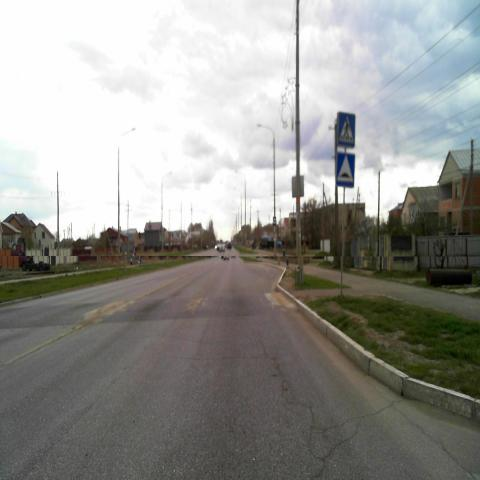5_20: (336, 152, 355, 188)
